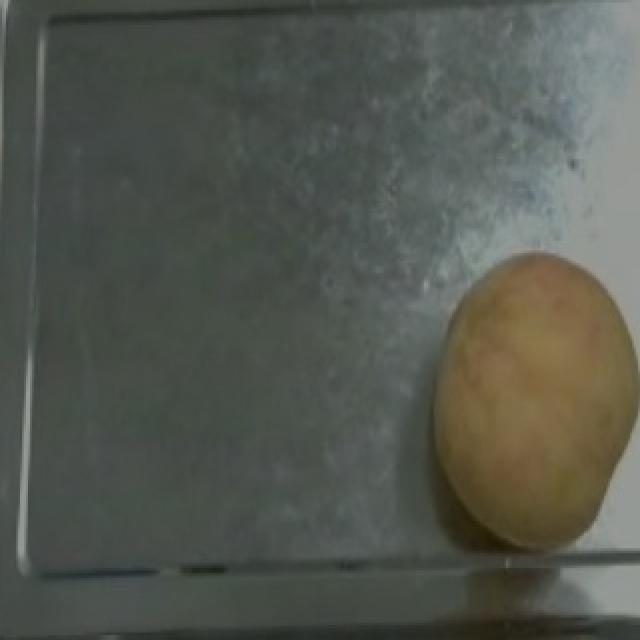Fruit: (408, 241, 640, 553)
